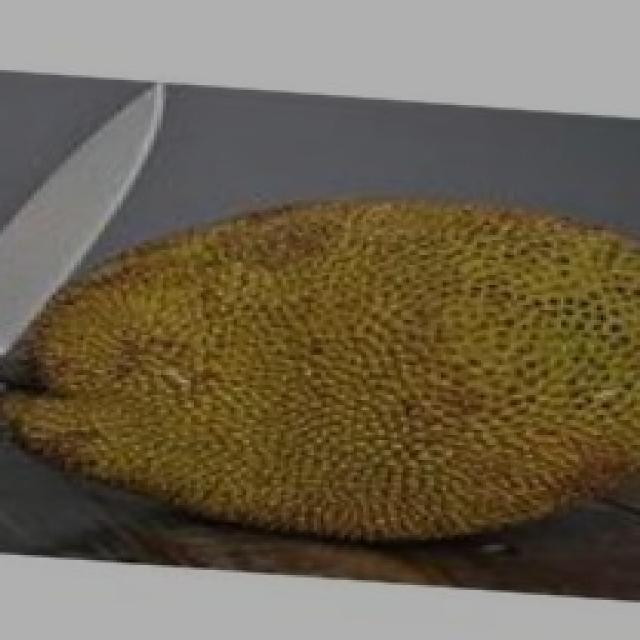Fruit: (249, 162, 640, 588), (0, 187, 388, 555)
